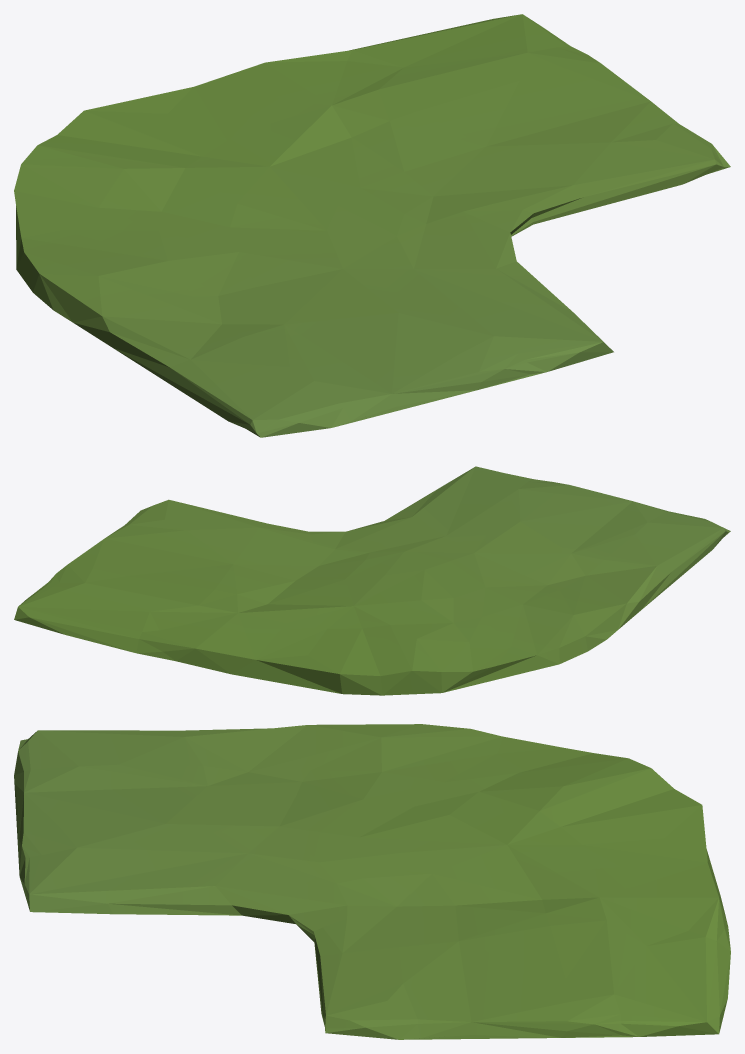
The model's file is MudRoad_05.fbx.
3 views of the same model, one above another, from view 1: azimuth 30°, elevation 25°; view 2: azimuth 150°, elevation 25°; view 3: azimuth 270°, elevation 25° (orthographic). The views are drawn at different scales.
Parts seen in each view (by area): view 1: MudRoad_05; view 2: MudRoad_05; view 3: MudRoad_05.
Part boxes in pixels (x1,y1,x2,y2): MudRoad_05: [14, 14, 730, 437]; MudRoad_05: [14, 466, 730, 695]; MudRoad_05: [14, 724, 730, 1039].
Size of the model in its own units: 6.03 by 0.2741 by 6.01.
